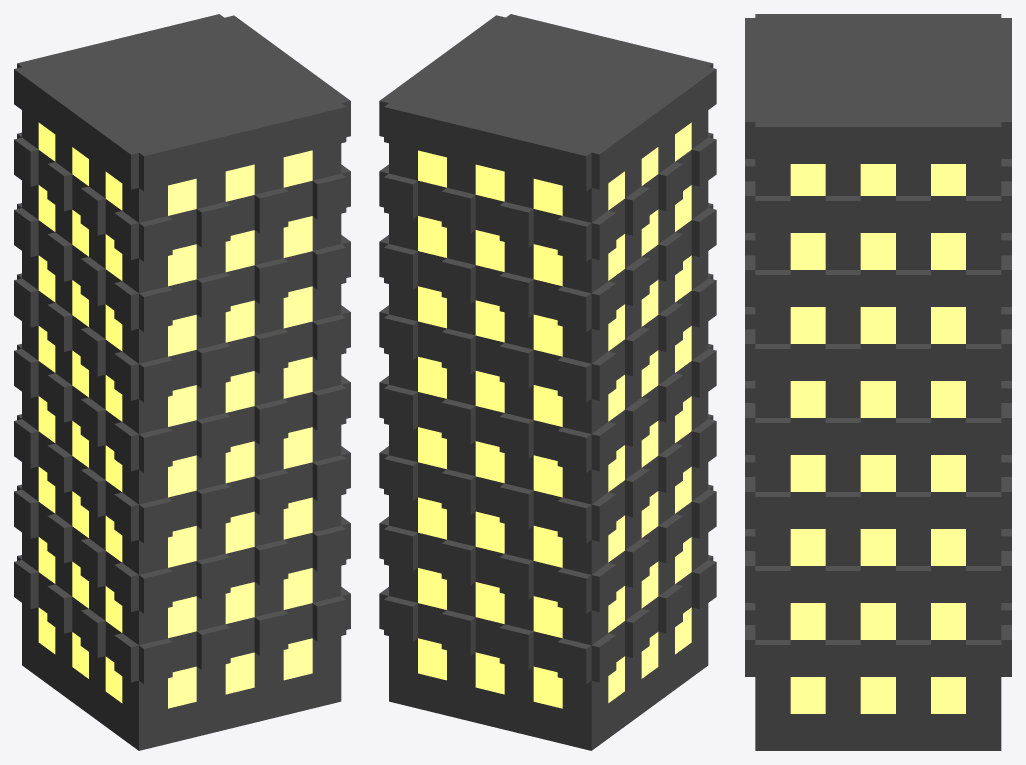
Rendered from Building1.fbx.
3 renders of one model, left to right at view 1: azimuth 30°, elevation 25°; view 2: azimuth 150°, elevation 25°; view 3: azimuth 270°, elevation 25°, orthographic. The views are drawn at different scales.
Parts seen in each view (by area): view 1: Cube; view 2: Cube; view 3: Cube.
Boxes of the visible parts, left/top/right/bottom form: Cube: left=14, top=14, right=350, bottom=750; Cube: left=379, top=14, right=716, bottom=750; Cube: left=745, top=14, right=1011, bottom=750.
Bounding box in the file's own units: 217 × 565 × 217.
